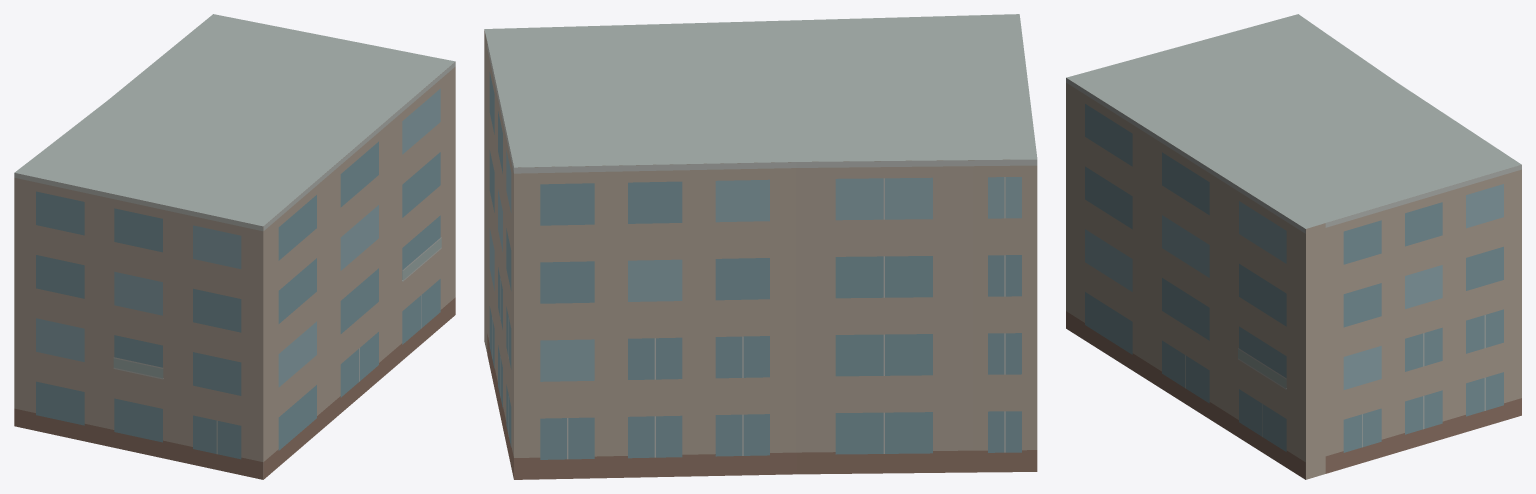
File: survey-upis-32672647.glb
The picture shows the model from 3 angles, left to right: view 1: azimuth 30°, elevation 25°; view 2: azimuth 150°, elevation 25°; view 3: azimuth 270°, elevation 25°; orthographic projection. The views are drawn at different scales.
Parts seen in each view (by area): view 1: survey-upis-32672647.tmp; view 2: survey-upis-32672647.tmp; view 3: survey-upis-32672647.tmp.
Part boxes in pixels (x1,y1,x2,y2): survey-upis-32672647.tmp: (14, 14, 455, 479); survey-upis-32672647.tmp: (484, 14, 1037, 479); survey-upis-32672647.tmp: (1066, 14, 1521, 479).
Bounding box in the file's own units: 22.98 × 12.5 × 20.59.
